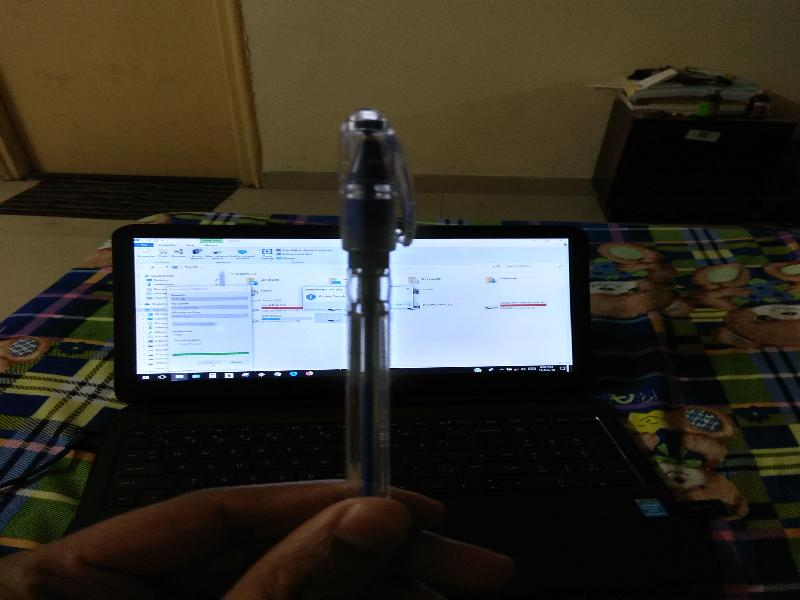pen: (322, 102, 421, 561)
